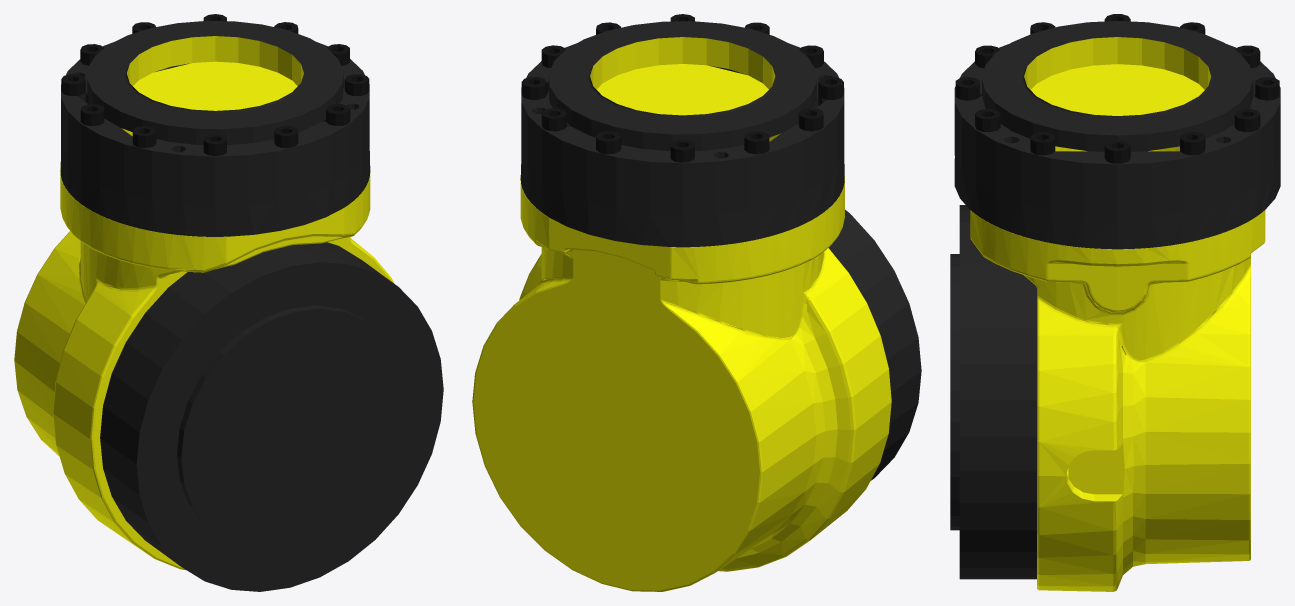
3 renders of one model, left to right at view 1: azimuth 30°, elevation 25°; view 2: azimuth 150°, elevation 25°; view 3: azimuth 270°, elevation 25°, orthographic. The views are drawn at different scales.
Parts seen in each view (by area): view 1: node; view 2: node; view 3: node.
Boxes of the visible parts, <box> form: node: <box>14,14,443,591</box>; node: <box>472,14,921,591</box>; node: <box>950,14,1280,591</box>.
Size of the model in its own units: 85.19 by 117 by 70.56.
